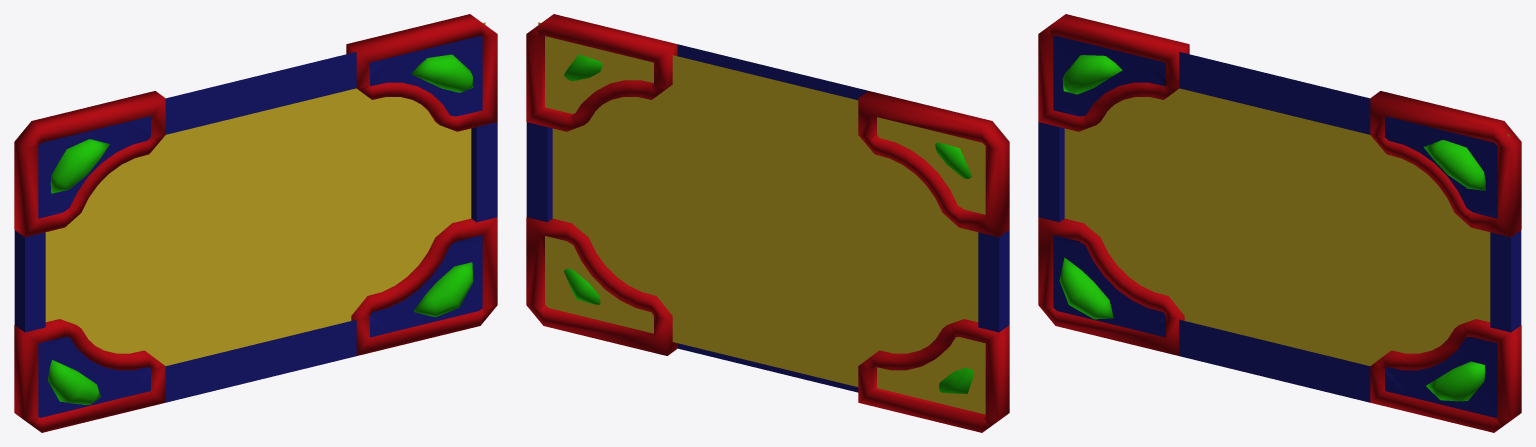
Rendered from Button_HumanZ_Test.FBX.
The picture shows the model from 3 angles, left to right: view 1: azimuth 30°, elevation 25°; view 2: azimuth 150°, elevation 25°; view 3: azimuth 330°, elevation 25°; orthographic projection.
Visible parts, largest first — view 1: Button_HumanZ_Test3; view 2: Button_HumanZ_Test3; view 3: Button_HumanZ_Test3.
Part boxes in pixels (x1,y1,x2,y2): Button_HumanZ_Test3: (14, 14, 497, 432); Button_HumanZ_Test3: (526, 14, 1009, 432); Button_HumanZ_Test3: (1038, 14, 1521, 432).
Bounding box in the file's own units: 20.72 × 12.75 × 1.51.
